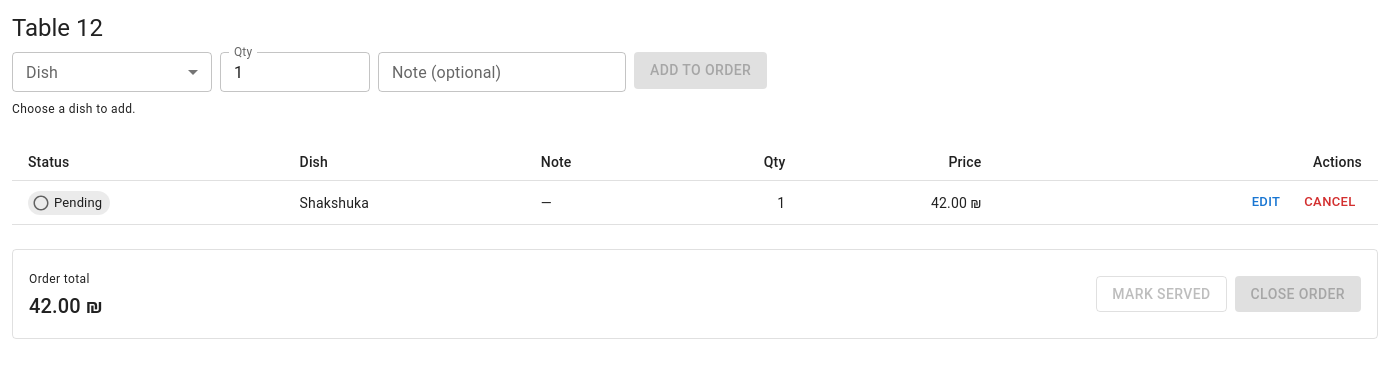
TableOrderDetailPage › edits a pending item, always sending both quantity and note
Click the button "Edit" at (1266, 203), box [1234,187,1298,218]
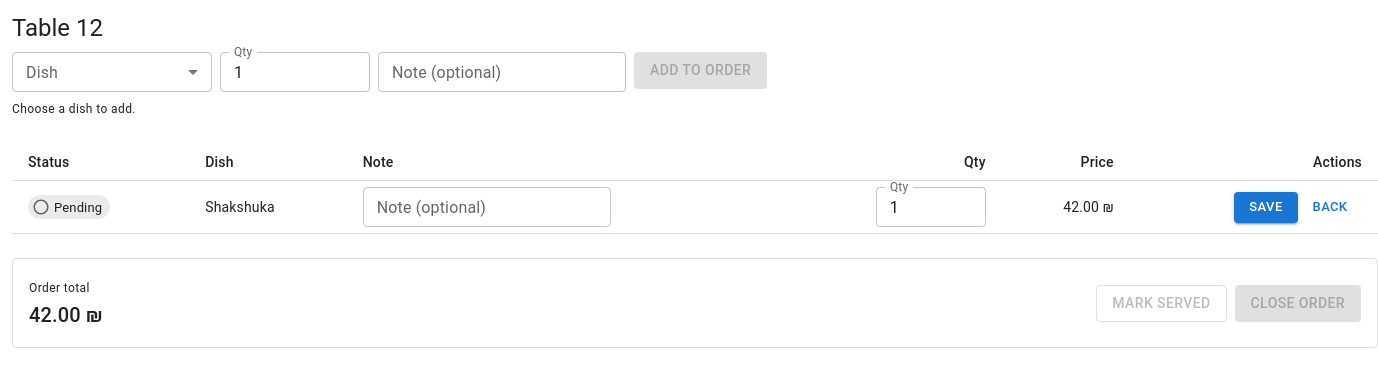
Replace the text in the field labelled "Qty" in the row of "Pending" with "4" at (931, 207), box [876,187,986,227]
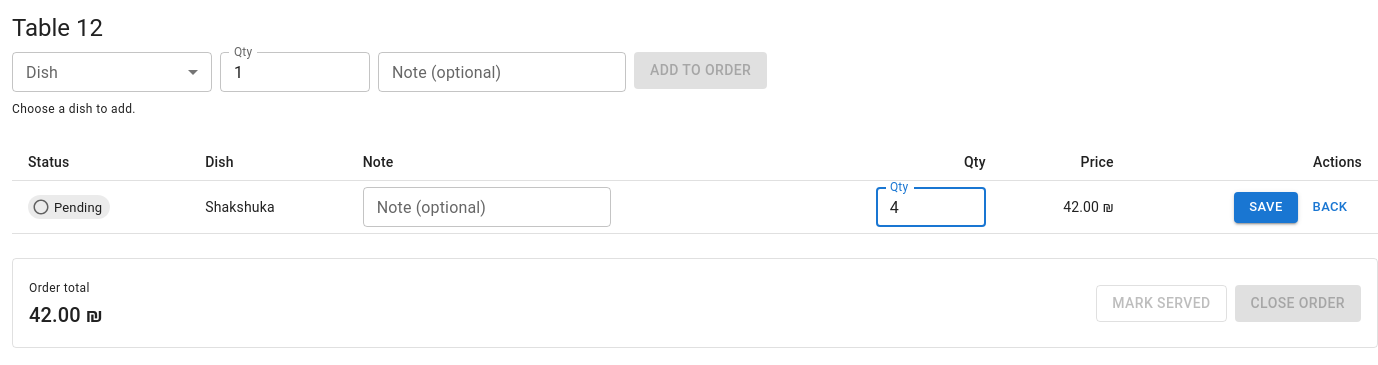
Type "extra spicy" into the field labelled "Note (optional)" in the row of "Pending" at (487, 207), box [363,187,611,227]
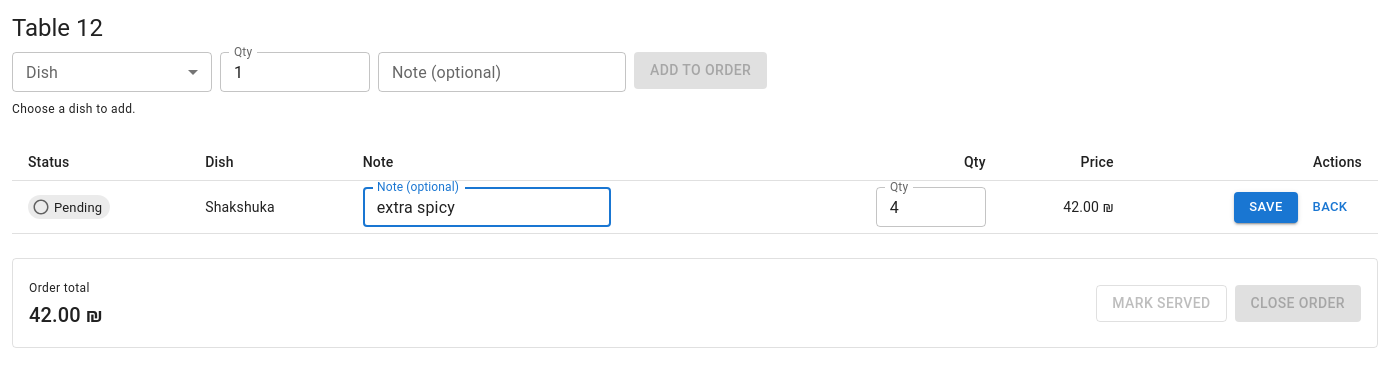
Click the button "Save" at (1266, 207), box [1234,192,1298,223]
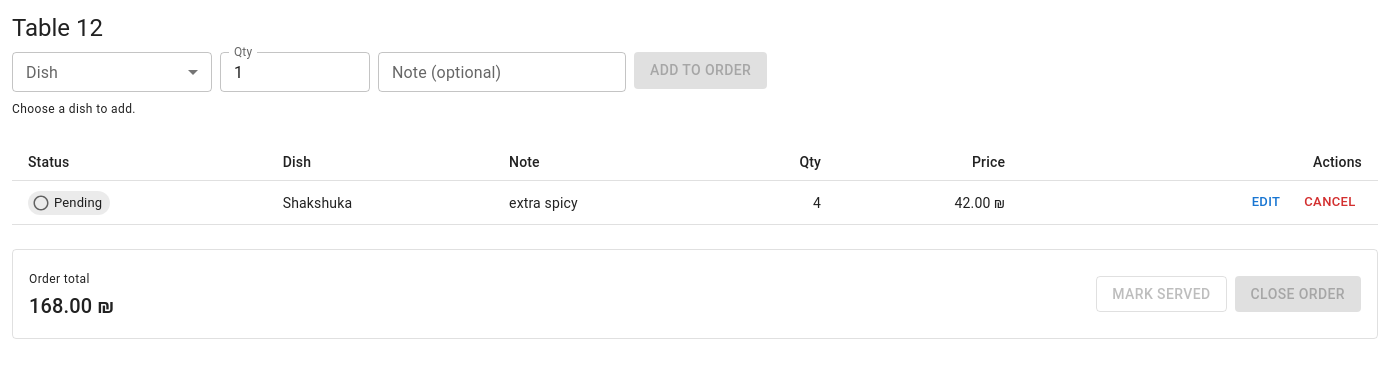
Check: the text "extra spicy" is shown, box [493,181,718,225]
